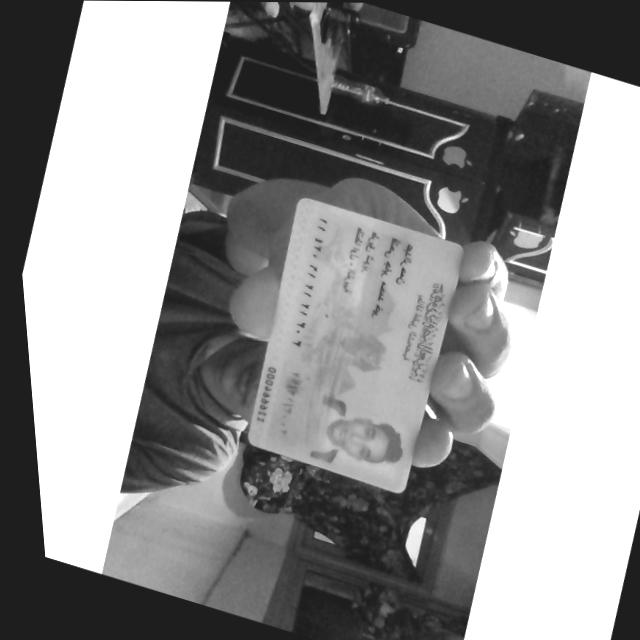id_card: (249, 198, 462, 492)
